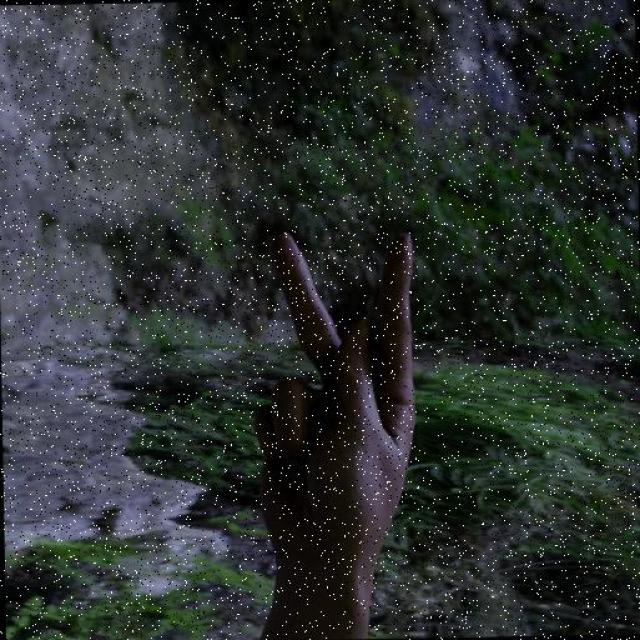K: (159, 164, 434, 605)
